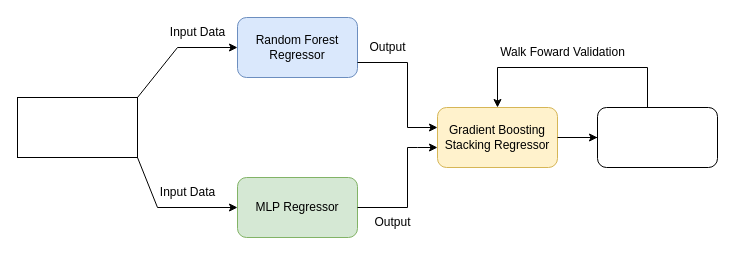
The diagram is 735 pixels wide and 255 high, and some of its shapes have lost their labels. The centre of each missing label's shape, as x and y in pixels:
Monthly Stock Data: the point at 77,127
Prediction Results: the point at 657,137
